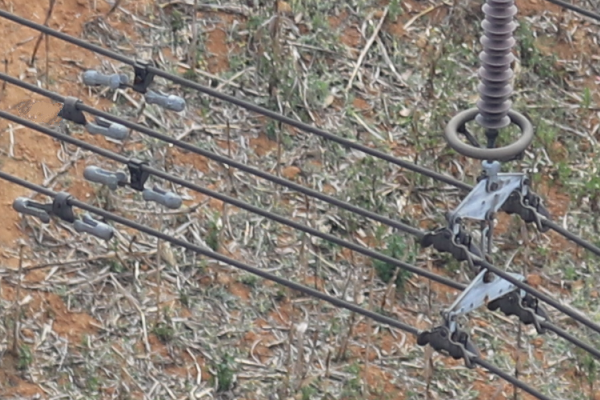damper: (79, 53, 189, 113), (10, 186, 117, 240), (81, 155, 182, 209)
damper_defect: (53, 94, 128, 139)
